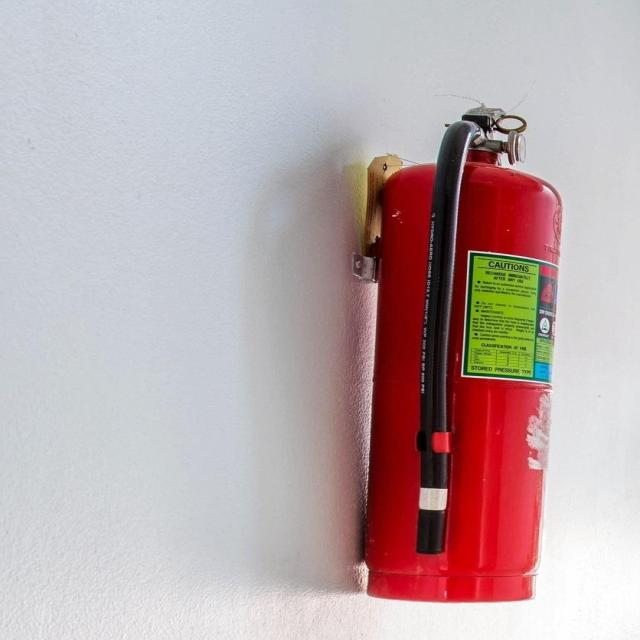fire_extinguisher: (353, 96, 569, 609)
